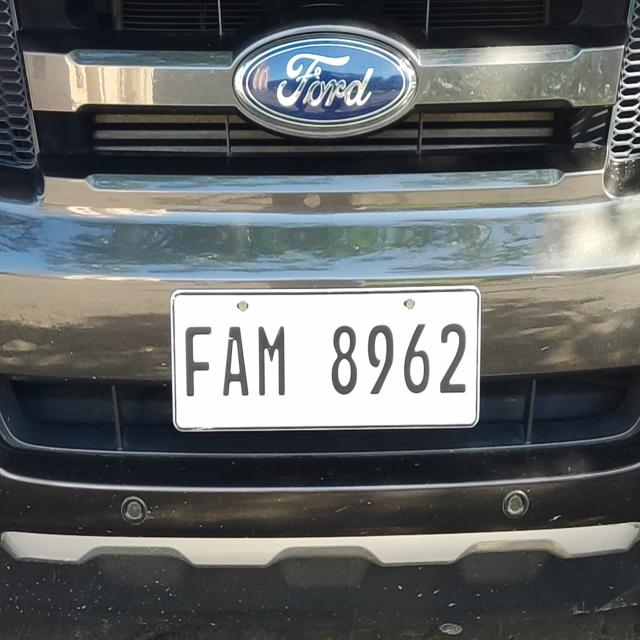plate: (160, 278, 490, 441)
